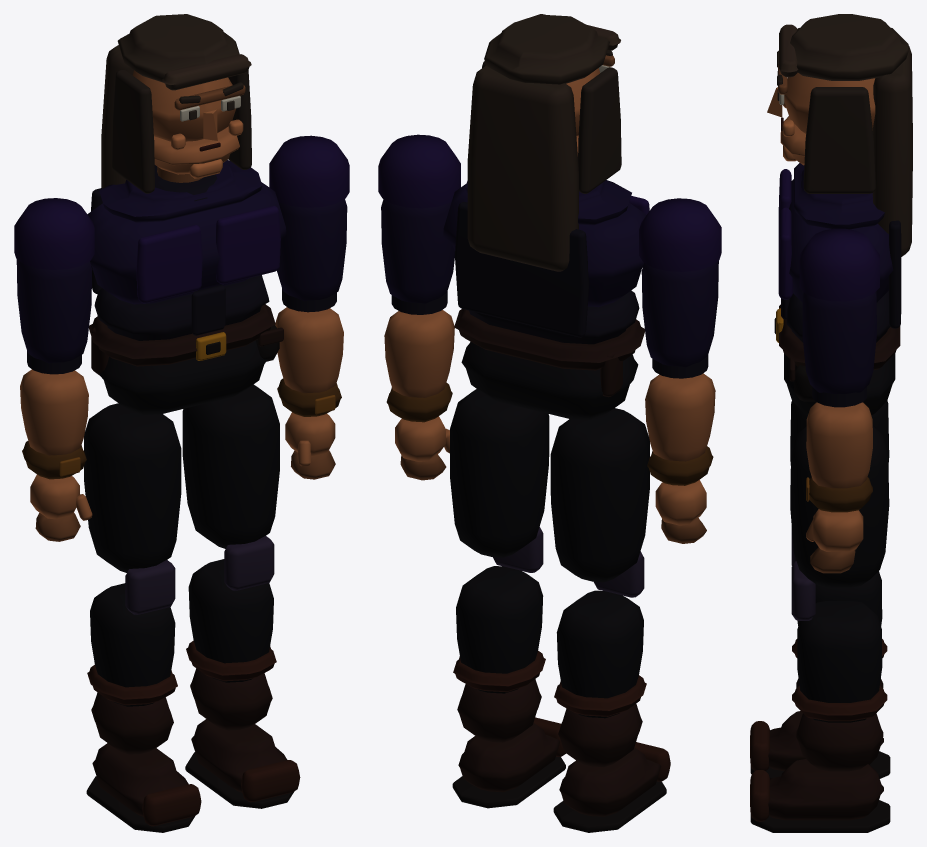
File: ArcanistaDoVeuBase.fbx
3 renders of one model, left to right at view 1: azimuth 30°, elevation 25°; view 2: azimuth 150°, elevation 25°; view 3: azimuth 270°, elevation 25°, orthographic. The views are drawn at different scales.
Parts seen in each view (by area): view 1: Body, LegR, LegL, Head, ArmR, ArmL; view 2: LegR, LegL, Body, Head, ArmR, ArmL; view 3: LegL, Head, ArmL, Body, LegR.
Part boxes in pixels (left/top/right/bottom): Body: left=87, top=160, right=286, bottom=414; LegR: left=84, top=403, right=201, bottom=832; LegL: left=182, top=384, right=300, bottom=808; Head: left=101, top=14, right=251, bottom=193; ArmR: left=14, top=198, right=94, bottom=541; ArmL: left=269, top=135, right=349, bottom=479; LegR: left=550, top=408, right=670, bottom=832; LegL: left=450, top=389, right=565, bottom=808; Body: left=443, top=180, right=649, bottom=419; Head: left=467, top=14, right=621, bottom=271; ArmR: left=639, top=198, right=721, bottom=543; ArmL: left=378, top=134, right=460, bottom=480; LegL: left=750, top=425, right=890, bottom=832; Head: left=767, top=14, right=912, bottom=256; ArmL: left=799, top=228, right=879, bottom=573; Body: left=774, top=163, right=901, bottom=415; LegR: left=750, top=401, right=890, bottom=778.
Size of the model in its own units: 0.7867 by 1.74 by 0.338.
